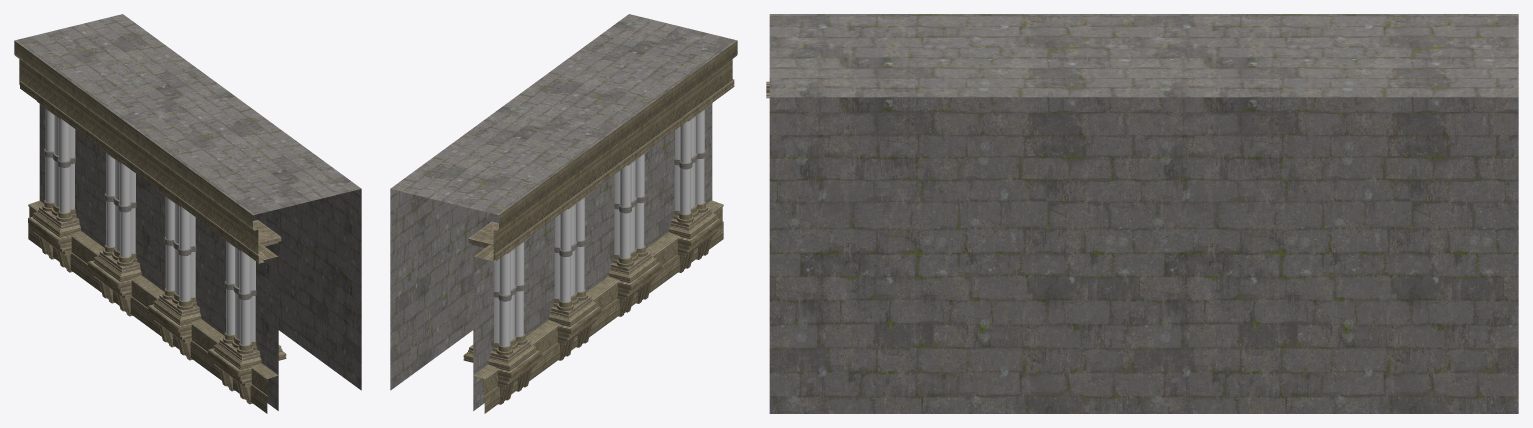
Rendered from SM_Wall_07.fbx.
The picture shows the model from 3 angles, left to right: view 1: azimuth 30°, elevation 25°; view 2: azimuth 150°, elevation 25°; view 3: azimuth 270°, elevation 25°; orthographic projection. The views are drawn at different scales.
Parts seen in each view (by area): view 1: SM_Wall_07_LOD0; view 2: SM_Wall_07_LOD0; view 3: SM_Wall_07_LOD0.
Boxes of the visible parts, x1,y1,x2,y2 form: SM_Wall_07_LOD0: (14, 14, 361, 413); SM_Wall_07_LOD0: (390, 14, 737, 413); SM_Wall_07_LOD0: (766, 14, 1518, 413).
Bounding box in the file's own units: 197 × 754 × 354.
